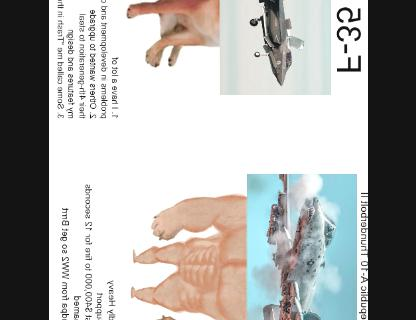A10: (261, 174, 338, 319)
F22: (247, 0, 305, 89)
